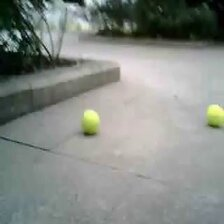tennis: (80, 110, 100, 133), (206, 105, 224, 127)
